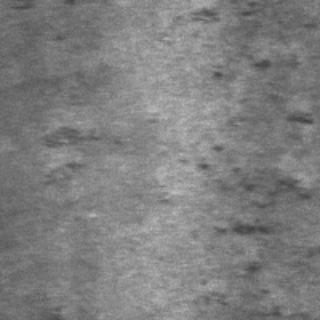rolled pit: (198, 52, 310, 312), (32, 122, 108, 186)
